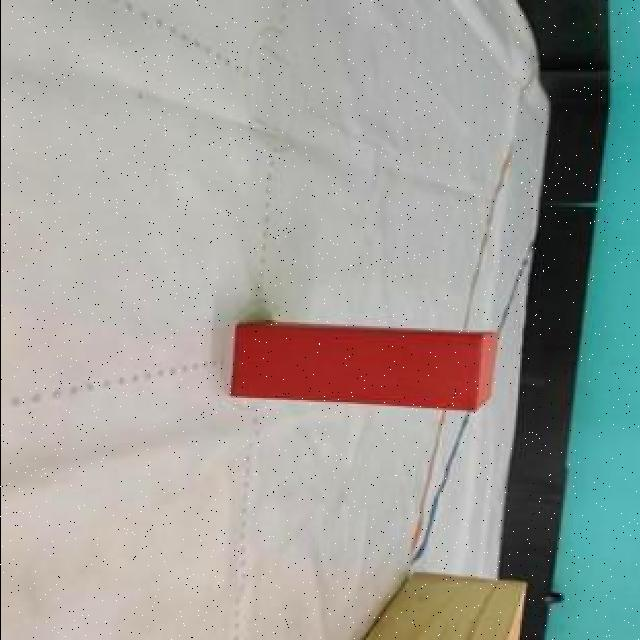redbox: (226, 322, 504, 412)
